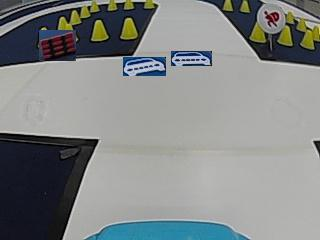thief: (257, 2, 285, 33)
